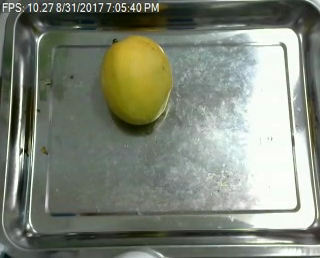Mango: (99, 36, 173, 126)
